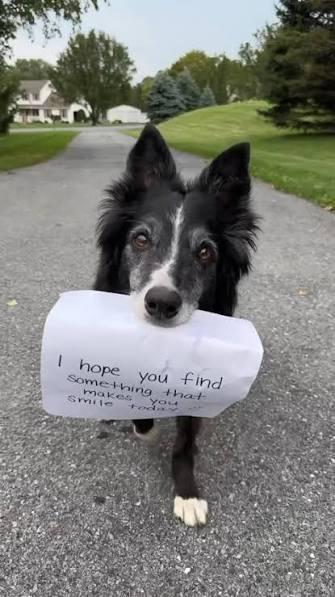adult_dog: (89, 124, 258, 528)
